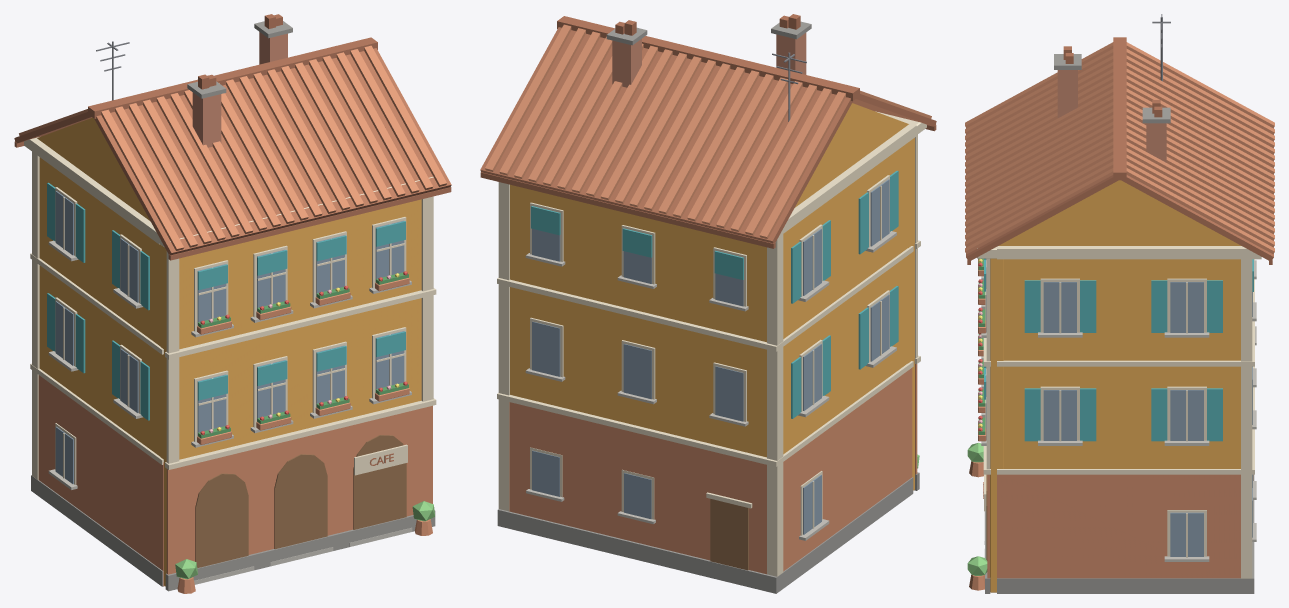
Rendered from env_plaza_building_03.glb.
3 renders of one model, left to right at view 1: azimuth 30°, elevation 25°; view 2: azimuth 150°, elevation 25°; view 3: azimuth 270°, elevation 25°, orthographic. The views are drawn at different scales.
Parts seen in each view (by area): view 1: env_plaza_building_03_body; view 2: env_plaza_building_03_body; view 3: env_plaza_building_03_body.
Boxes of the visible parts, x1,y1,x2,y2 form: env_plaza_building_03_body: (14,14,451,593); env_plaza_building_03_body: (480,14,936,593); env_plaza_building_03_body: (965,14,1274,593).
Size of the model in its own units: 8.6 by 13.78 by 8.31.
